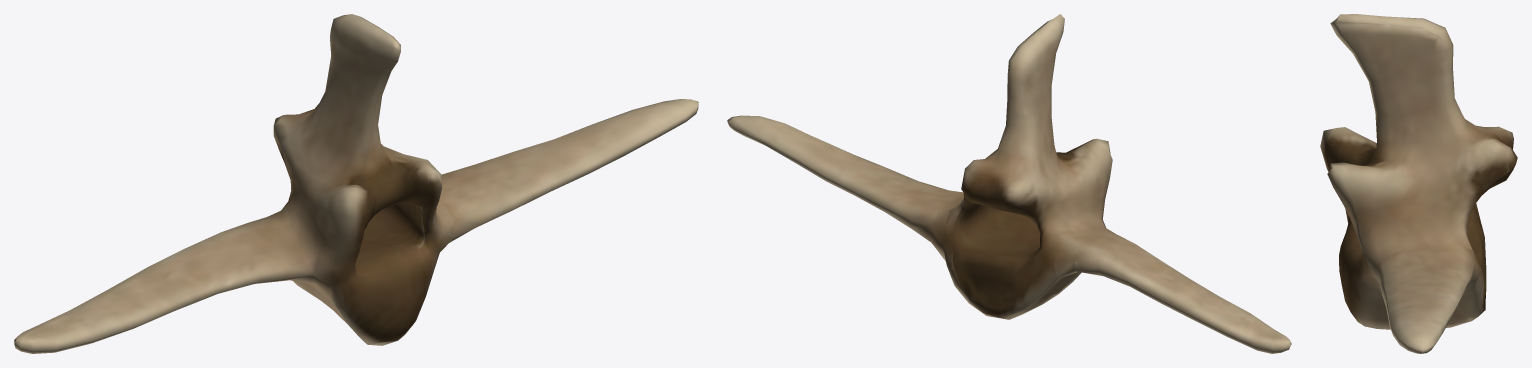
The model's file is Lumbar_Vertebrae4.glb.
3 views of the same model, side by side, from view 1: azimuth 30°, elevation 25°; view 2: azimuth 150°, elevation 25°; view 3: azimuth 270°, elevation 25° (orthographic). The views are drawn at different scales.
Parts seen in each view (by area): view 1: Horse_low:SelSet_59Merged_L_Frt_Sesamoid_Bones_1; view 2: Horse_low:SelSet_59Merged_L_Frt_Sesamoid_Bones_1; view 3: Horse_low:SelSet_59Merged_L_Frt_Sesamoid_Bones_1.
Part boxes in pixels (left/top/right/bottom): Horse_low:SelSet_59Merged_L_Frt_Sesamoid_Bones_1: left=14, top=14, right=698, bottom=353; Horse_low:SelSet_59Merged_L_Frt_Sesamoid_Bones_1: left=727, top=14, right=1291, bottom=353; Horse_low:SelSet_59Merged_L_Frt_Sesamoid_Bones_1: left=1320, top=14, right=1517, bottom=353.
Bounding box in the file's own units: 0.3001 × 0.1381 × 0.0789.
Materials: 1 (1 with a texture image).
